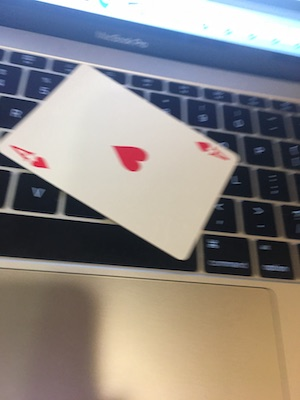AceOfHearts: (1, 56, 245, 261)
